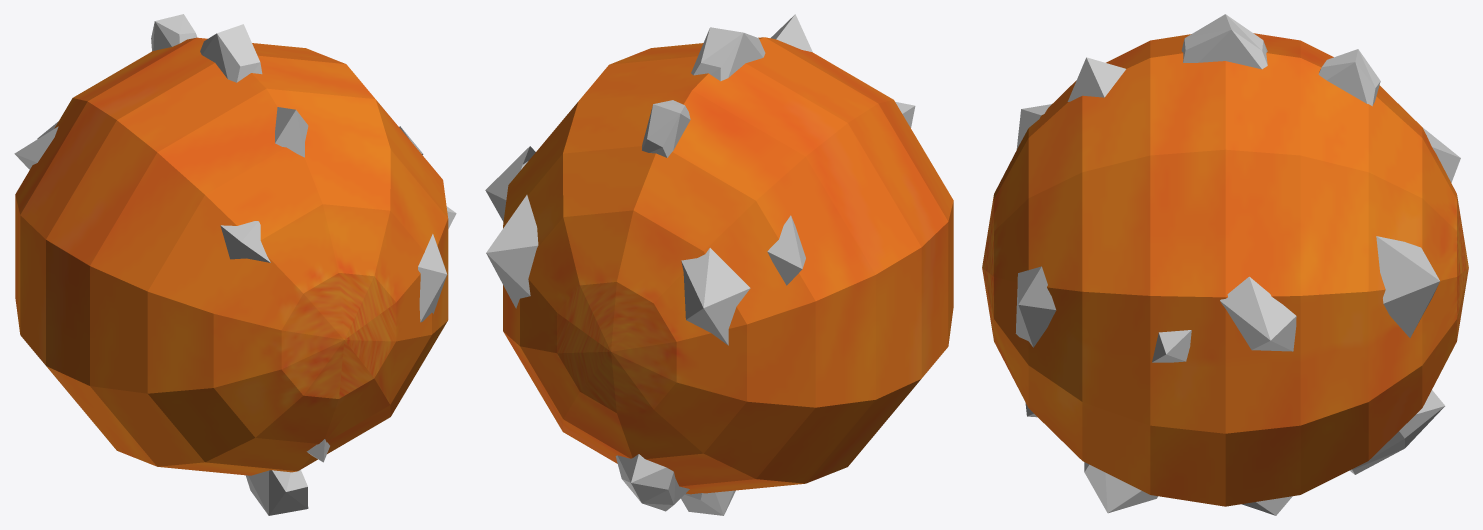
Rendered from BR_Solrock.obj.
The picture shows the model from 3 angles, left to right: view 1: azimuth 30°, elevation 25°; view 2: azimuth 150°, elevation 25°; view 3: azimuth 270°, elevation 25°; orthographic projection. The views are drawn at different scales.
Visible parts, largest first — view 1: solrock; view 2: solrock; view 3: solrock.
Part boxes in pixels (left/top/right/bottom): solrock: left=14, top=14, right=456, bottom=515; solrock: left=485, top=14, right=953, bottom=515; solrock: left=982, top=14, right=1468, bottom=515.
Size of the model in its own units: 5.31 by 5.74 by 5.2.
